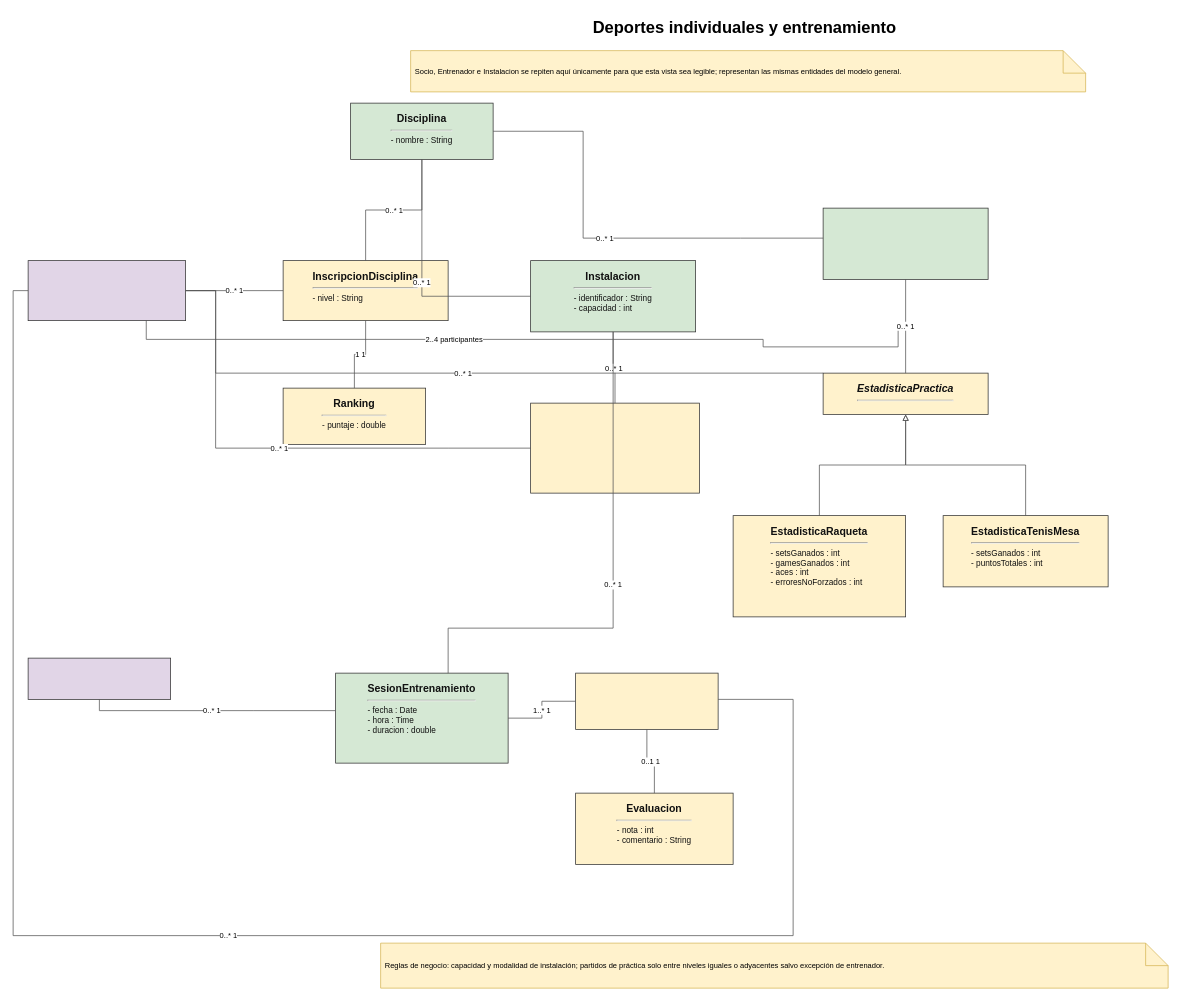
This 1181x1001 diagram has some shape labels left out. Each missing label, with the box of its shape:
Asistencia - estado : String: (575, 672, 718, 729)
Entrenador: (27, 657, 171, 699)
PartidoPractica - fecha : Date - modalidad : String: (822, 207, 988, 279)
Reserva - bloqueHorario : String - numeroJugadores : int - modalidad : String: (530, 402, 699, 493)
Socio - fechaNacimiento : Date: (27, 260, 186, 321)
